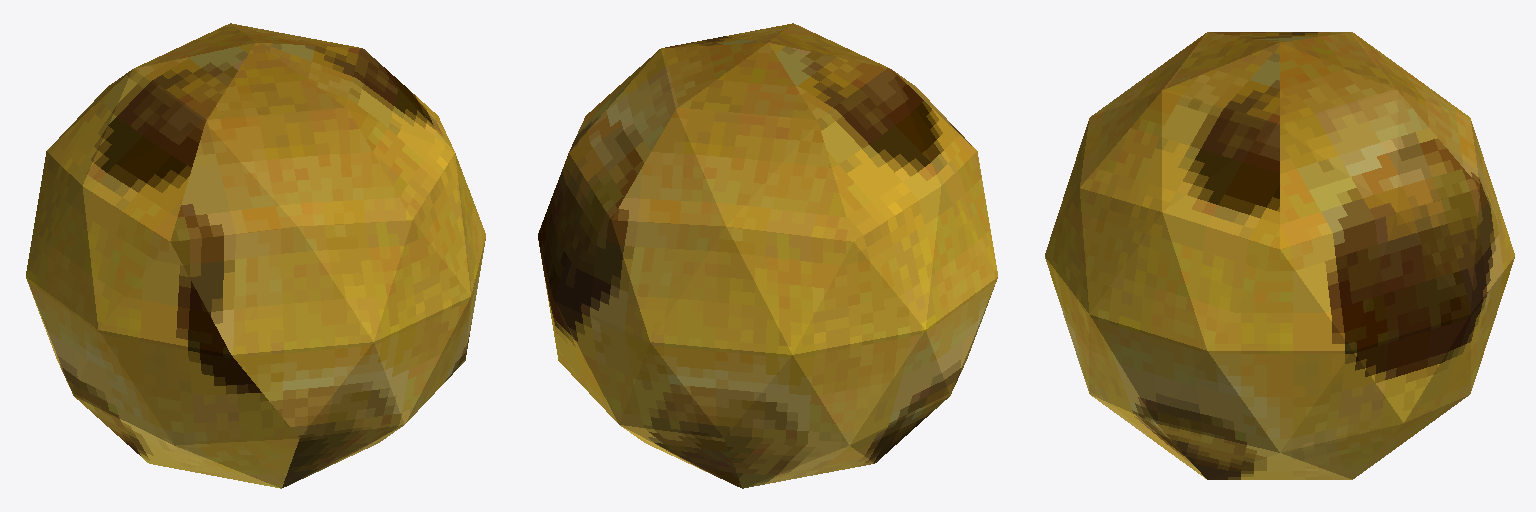
The picture shows the model from 3 angles: view 1: azimuth 30°, elevation 25°; view 2: azimuth 150°, elevation 25°; view 3: azimuth 270°, elevation 25°; orthographic projection.
Bounding box in the file's own units: 1.9 × 2 × 2.
1 materials, 1 textured.